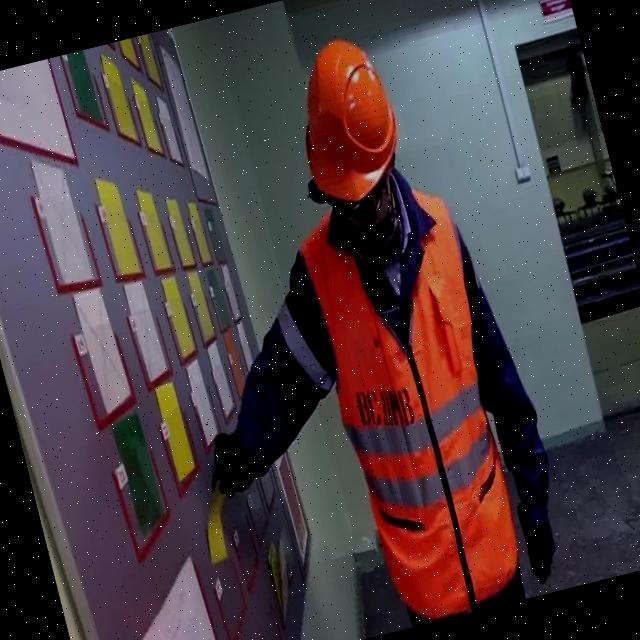helmet: (282, 30, 412, 211)
vest: (289, 180, 544, 632)
